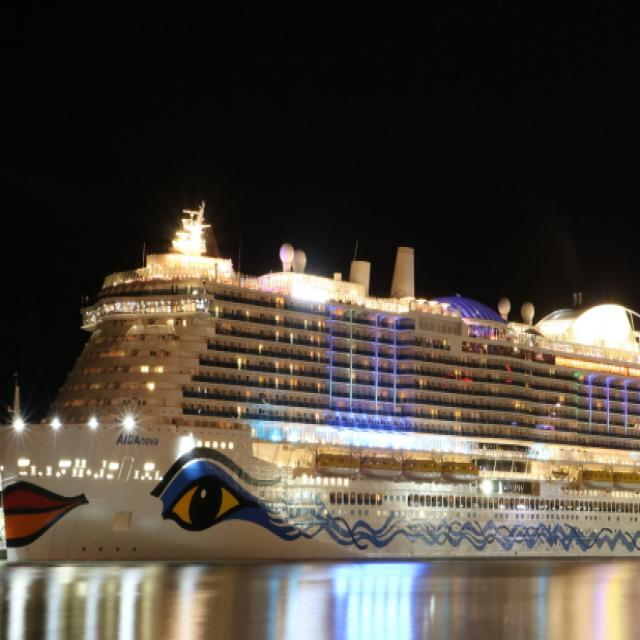cruises: (1, 202, 640, 575)
